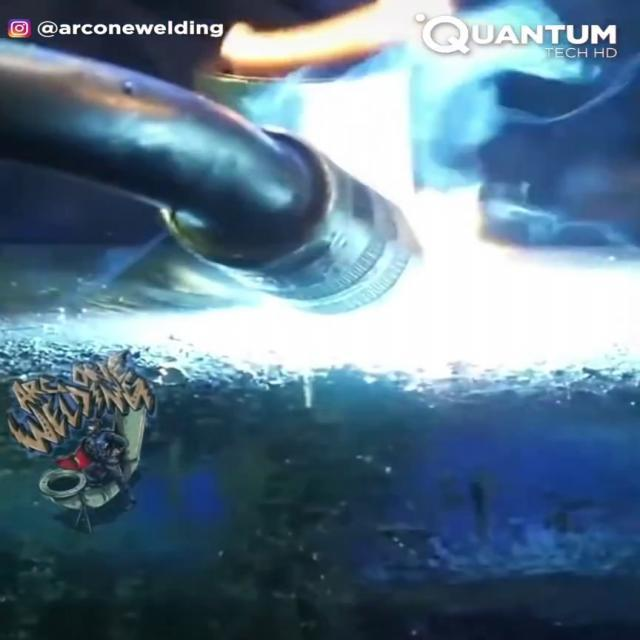Good Weld: (265, 244, 395, 299)
